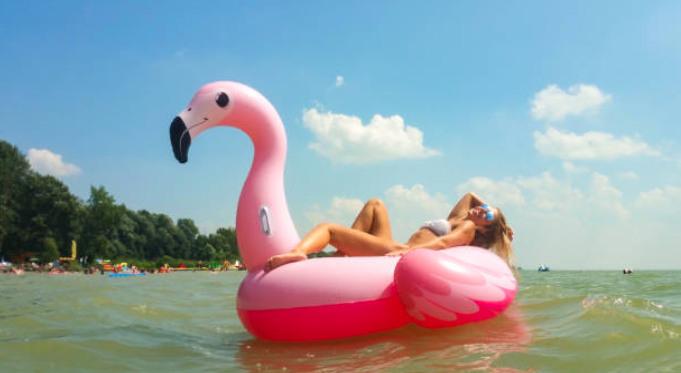Flamingo: (167, 79, 522, 343)
